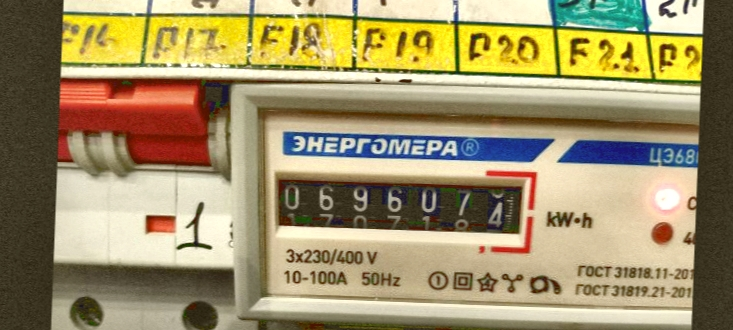0: (279, 179, 299, 209), (415, 184, 435, 211)
4: (482, 198, 501, 227)
6: (382, 182, 401, 211), (313, 182, 332, 209)
7: (450, 185, 470, 216)
9: (347, 183, 366, 212)
screen: (257, 156, 539, 253)
